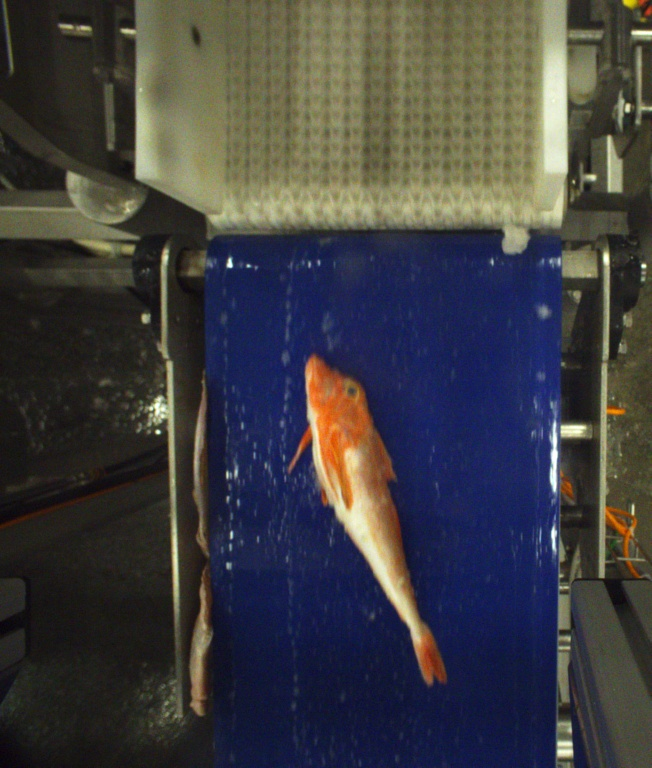GUU: (289, 352, 450, 688)
